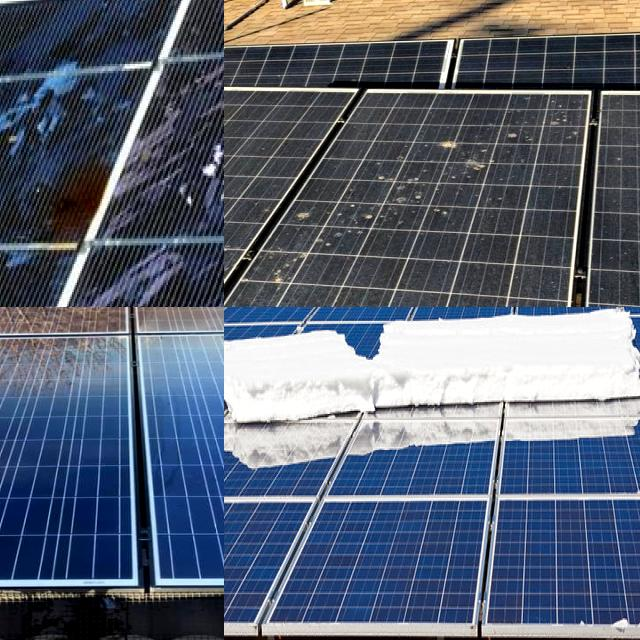crack: (0, 323, 202, 636), (90, 312, 224, 640), (0, 307, 176, 355)
dust: (279, 146, 440, 274), (466, 96, 582, 190), (224, 238, 272, 306)
panel: (224, 337, 375, 473), (240, 307, 359, 364), (453, 369, 552, 432), (224, 389, 338, 442), (365, 307, 456, 365), (563, 351, 640, 419), (354, 387, 442, 424), (471, 308, 540, 346), (224, 314, 253, 392), (550, 307, 637, 333), (598, 594, 640, 631), (224, 392, 242, 445), (224, 347, 248, 376), (224, 307, 252, 328)
shadow: (34, 148, 122, 266)
